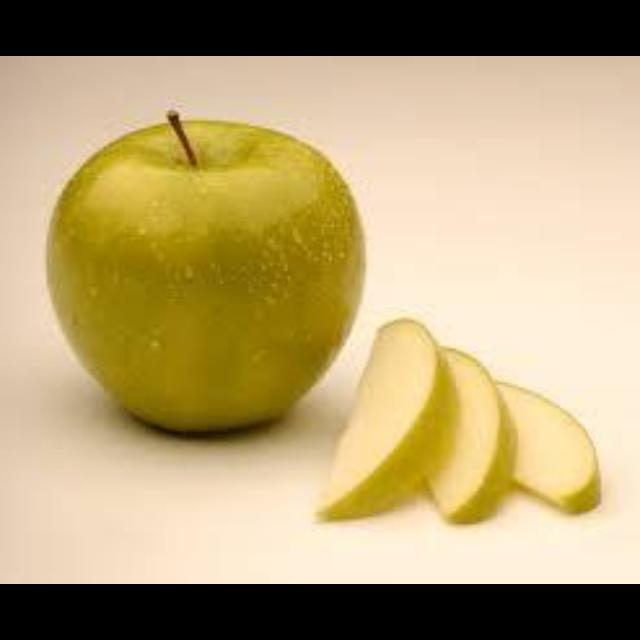apple: (47, 121, 363, 429), (316, 318, 453, 517), (428, 349, 513, 522), (497, 382, 599, 512)
